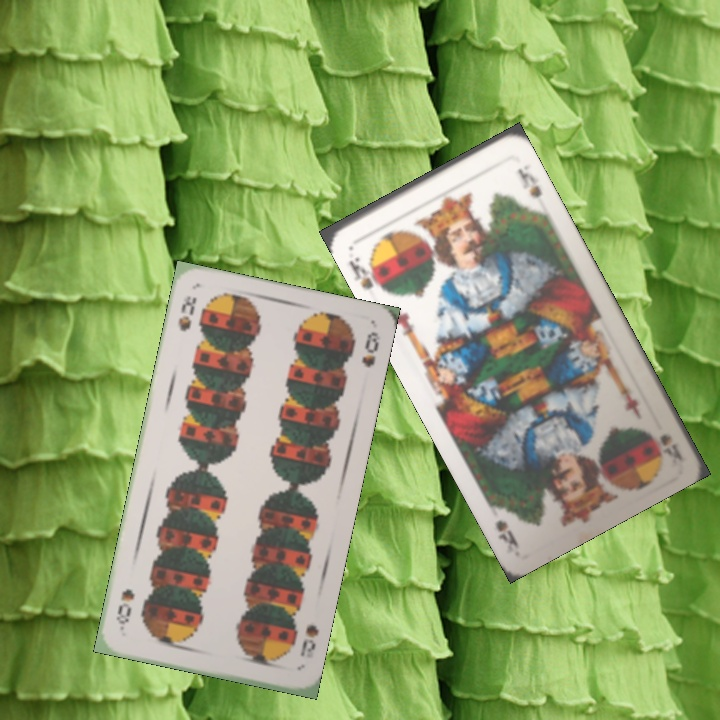S8: (174, 291, 200, 334), (296, 620, 322, 659)
SK: (344, 253, 387, 292), (656, 429, 685, 465)
